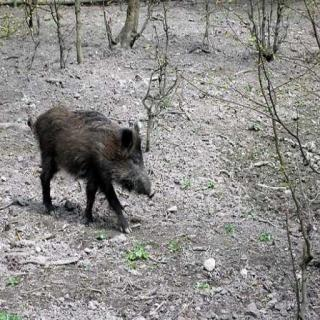Pig: (17, 88, 151, 238)
